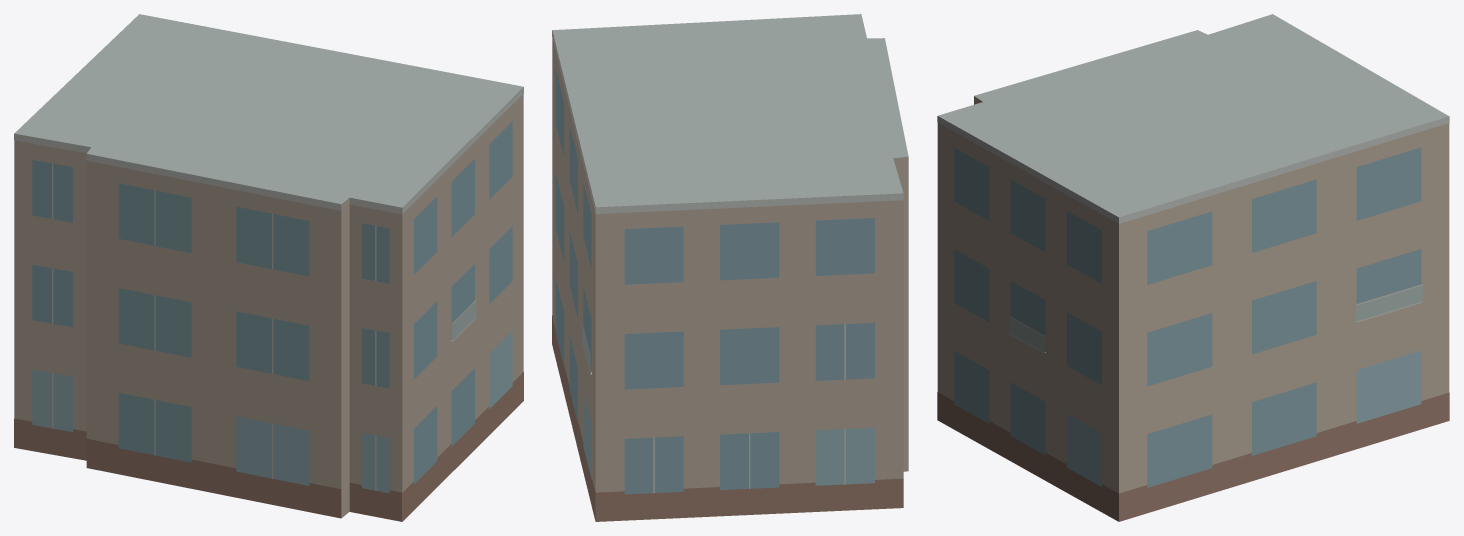
Rendered from survey-upis-32690981.glb.
3 views of the same model, side by side, from view 1: azimuth 30°, elevation 25°; view 2: azimuth 150°, elevation 25°; view 3: azimuth 270°, elevation 25° (orthographic). The views are drawn at different scales.
Parts seen in each view (by area): view 1: survey-upis-32690981.tmp; view 2: survey-upis-32690981.tmp; view 3: survey-upis-32690981.tmp.
Boxes of the visible parts, bbox=[...] form: survey-upis-32690981.tmp: bbox=[14, 14, 523, 521]; survey-upis-32690981.tmp: bbox=[552, 14, 908, 521]; survey-upis-32690981.tmp: bbox=[937, 14, 1449, 521].
Size of the model in its own units: 16.2 by 11.3 by 17.23.
